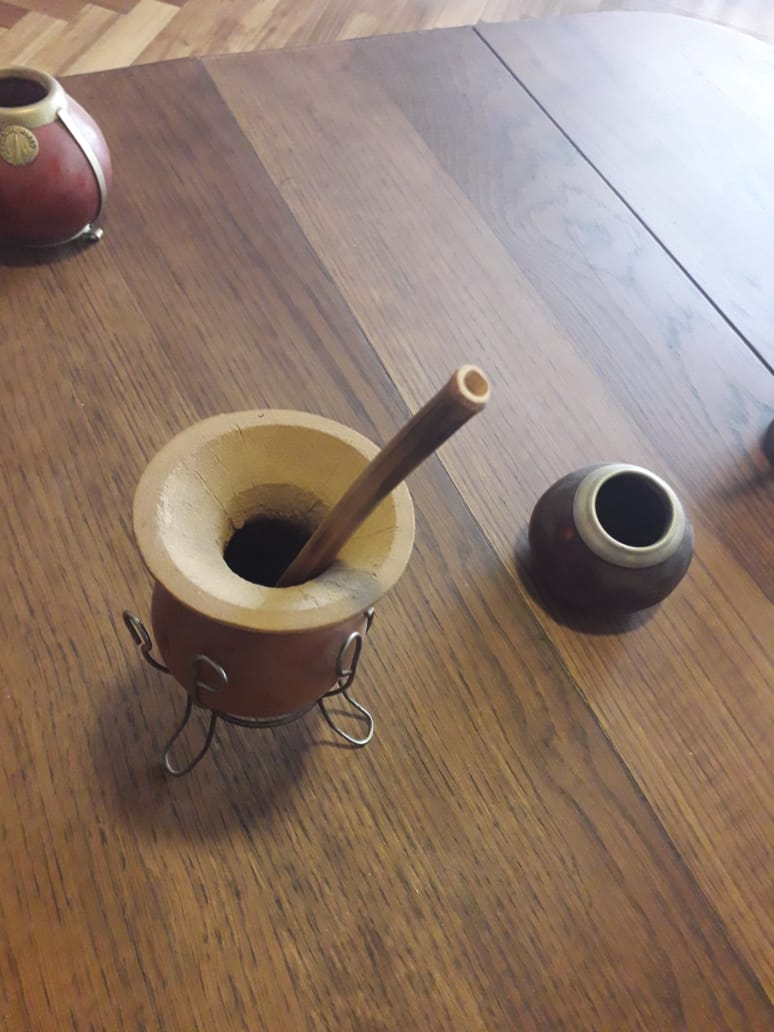calabaza: (119, 361, 493, 778)
mate: (121, 363, 495, 780)
